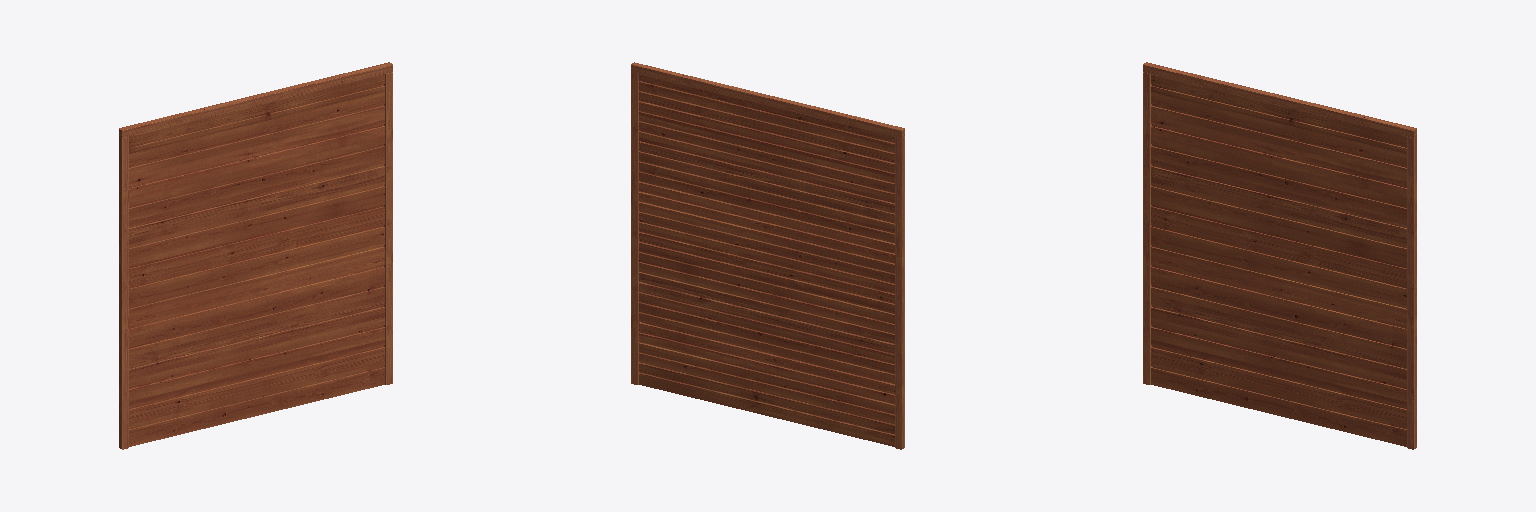
3 renders of one model, left to right at view 1: azimuth 30°, elevation 25°; view 2: azimuth 150°, elevation 25°; view 3: azimuth 330°, elevation 25°, orthographic.
Visible parts, largest first — view 1: wall_planks, trim_left, trim_top, trim_right; view 2: wall_planks, trim_left, trim_top, trim_right; view 3: wall_planks, trim_right, trim_top, trim_left.
Boxes of the visible parts, <box> form: wall_planks: <box>129,74,384,446</box>; trim_left: <box>119,136,128,449</box>; trim_top: <box>119,62,392,137</box>; trim_right: <box>384,72,392,384</box>; wall_planks: <box>639,74,894,446</box>; trim_left: <box>895,136,904,449</box>; trim_top: <box>631,62,904,137</box>; trim_right: <box>631,72,638,384</box>; wall_planks: <box>1151,74,1406,446</box>; trim_right: <box>1407,136,1416,449</box>; trim_top: <box>1143,62,1416,137</box>; trim_left: <box>1143,72,1151,384</box>.
Size of the model in its own units: 84 by 94.5 by 1.82.
2 materials, 2 textured.